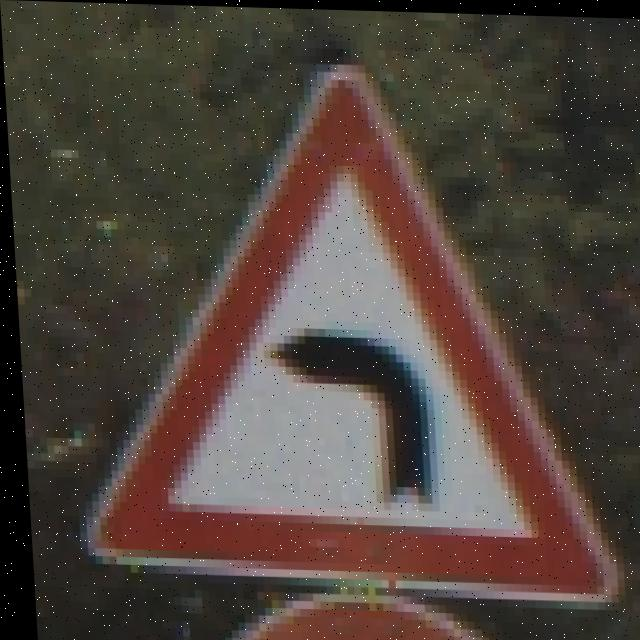left_turn: (96, 65, 592, 605)
